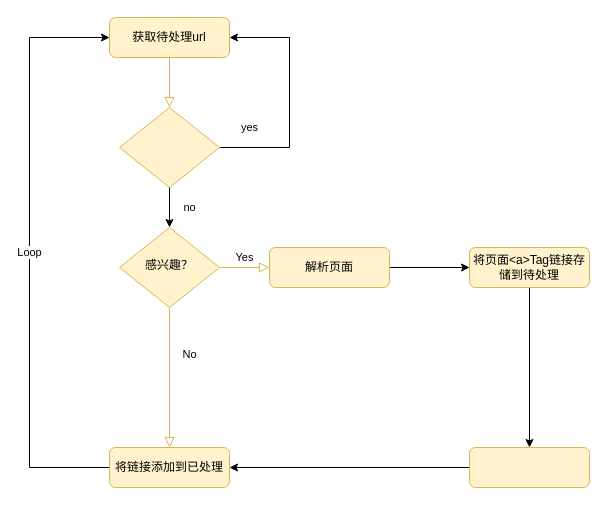
Some shapes in this 607 by 505 pixel diagram are drawn without their labels. The shapes that lost their labels are listed below. From the top down, each one's centre as x and y in pixels, then its label:
At (169,147): "已处理？".
At (529,467): "解析文章并存储".
